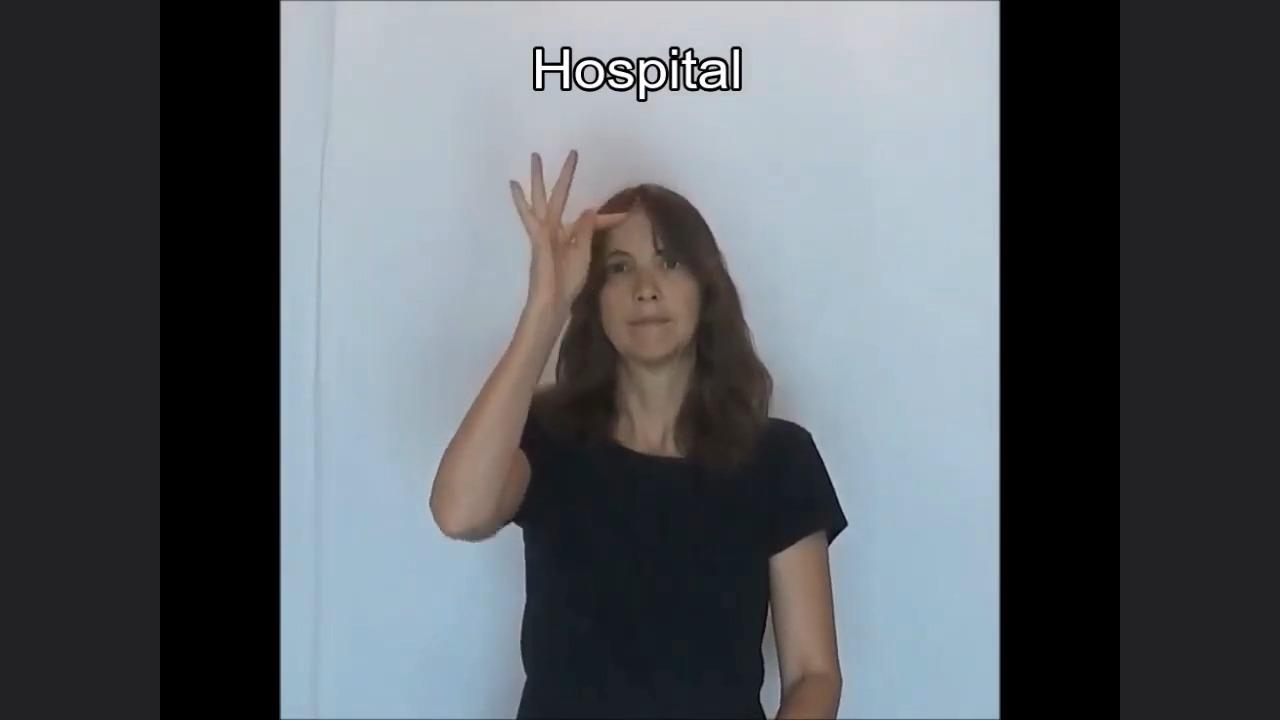Hospital: (364, 134, 894, 643)
